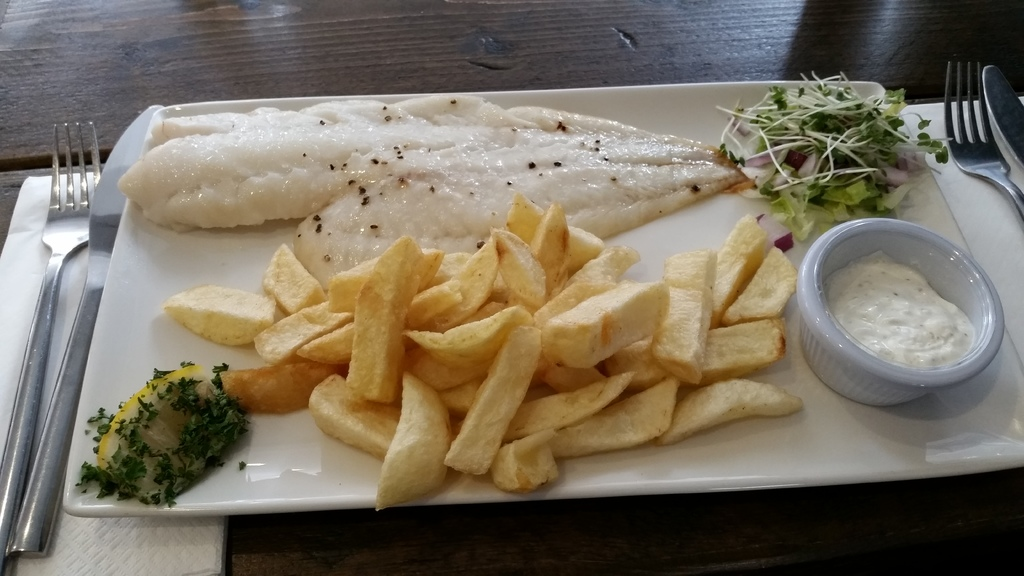French fries: (222, 192, 811, 490)
